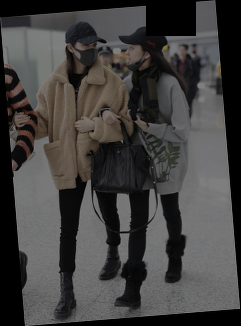mask_weared_incorrect: (124, 43, 146, 69)
with_mask: (72, 40, 99, 67)
